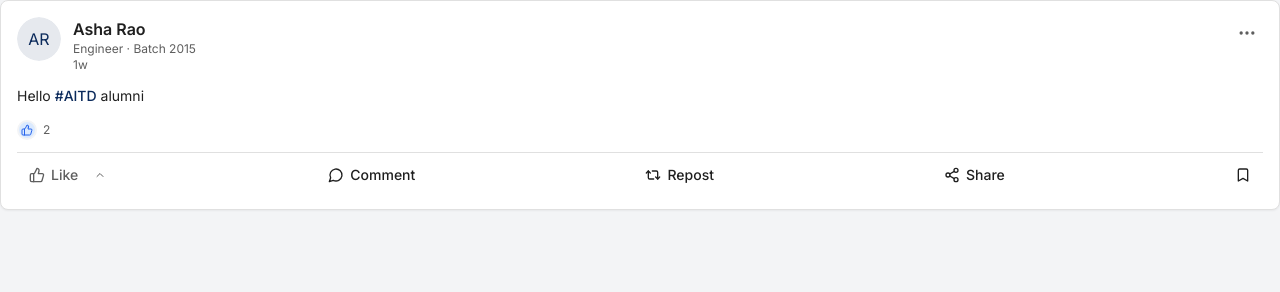
Test: PostCard reposts and saves › reposts and hands the new repost to the feed
Click the button with aria-label "Repost options" at point(680, 175), box [633,157,726,193]
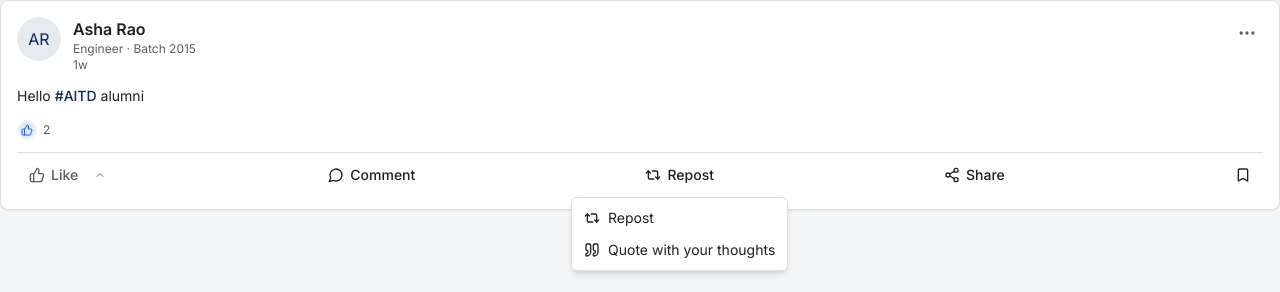
Click the menu item "Repost" at point(619, 218), box [584,209,654,226]
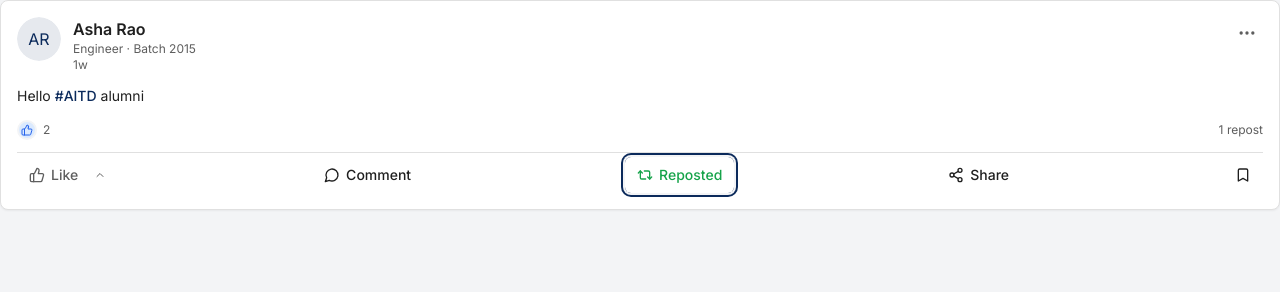
Check: the button with aria-label "Reposted. Repost options" is shown, box [625,157,734,193]
Check: the text "1 repost" is shown, box [1219,122,1263,138]
